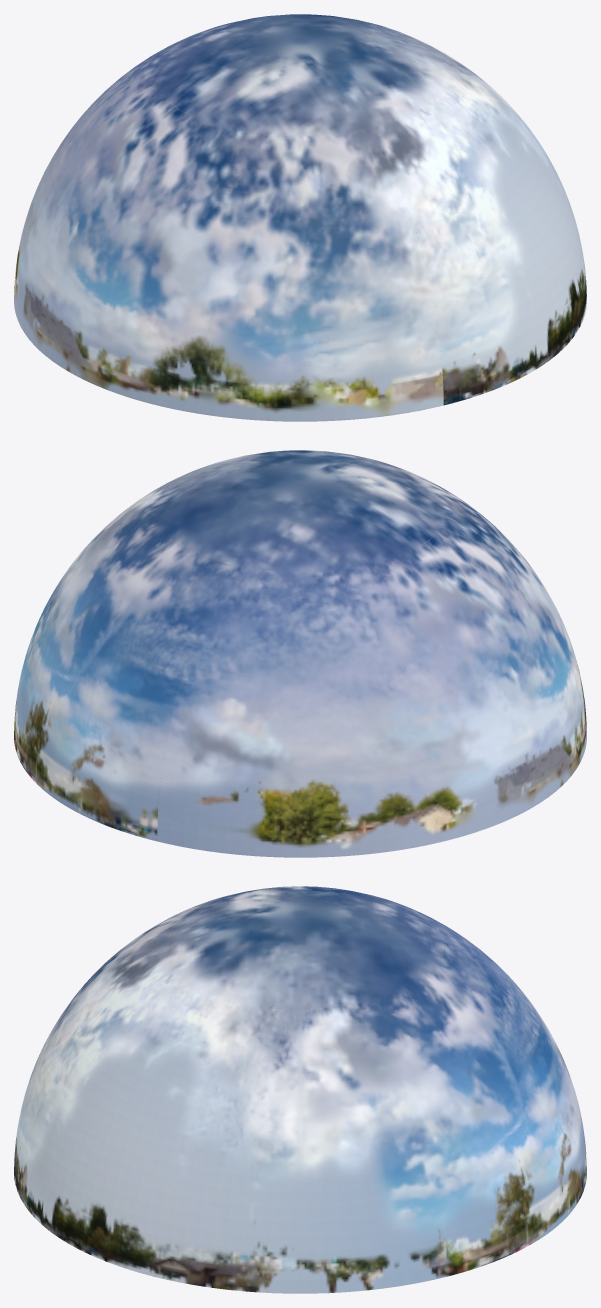
The model's file is interior.glb.
The picture shows the model from 3 angles, top to bottom: view 1: azimuth 30°, elevation 25°; view 2: azimuth 150°, elevation 25°; view 3: azimuth 270°, elevation 25°; orthographic projection.
Parts seen in each view (by area): view 1: backdrop_3, backdrop_4, backdrop_7; view 2: backdrop_3, backdrop_2, backdrop_7; view 3: backdrop_2, backdrop_4, backdrop_7, backdrop_3.
Part boxes in pixels (x1,y1,x2,y2): backdrop_3: [14, 32, 443, 421]; backdrop_4: [372, 46, 586, 405]; backdrop_7: [156, 14, 444, 137]; backdrop_3: [157, 468, 586, 857]; backdrop_2: [14, 482, 228, 841]; backdrop_7: [156, 450, 445, 573]; backdrop_2: [272, 948, 586, 1293]; backdrop_4: [14, 948, 300, 1293]; backdrop_7: [156, 886, 444, 1009]; backdrop_3: [14, 905, 586, 1157].
Bounding box in the file's own units: 90 × 46.16 × 90.
37 materials, 37 textured.
